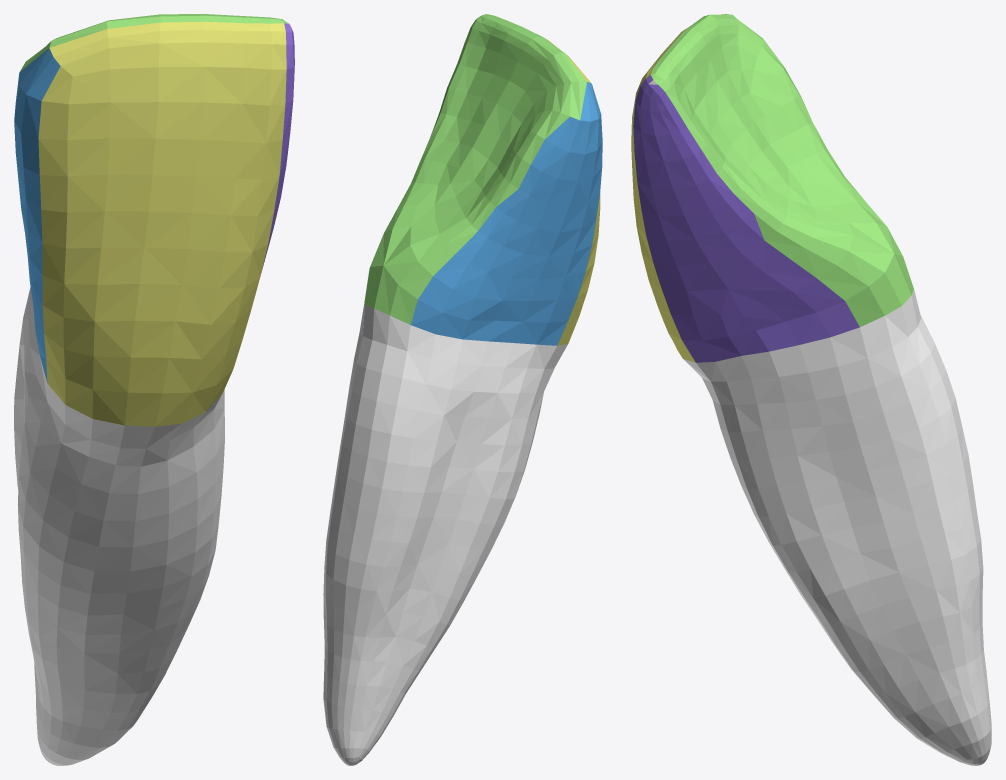
Rendered from tooth_42_annotated.glb.
3 renders of one model, left to right at view 1: azimuth 30°, elevation 25°; view 2: azimuth 150°, elevation 25°; view 3: azimuth 270°, elevation 25°, orthographic. The views are drawn at different scales.
Visible parts, largest first — view 1: FDI_42; view 2: FDI_42; view 3: FDI_42.
Part boxes in pixels (<box>): FDI_42: <box>14,14,294,765</box>; FDI_42: <box>323,14,602,765</box>; FDI_42: <box>631,14,991,765</box>.
Size of the model in its own units: 0.00531 by 0.0185 by 0.00858.
